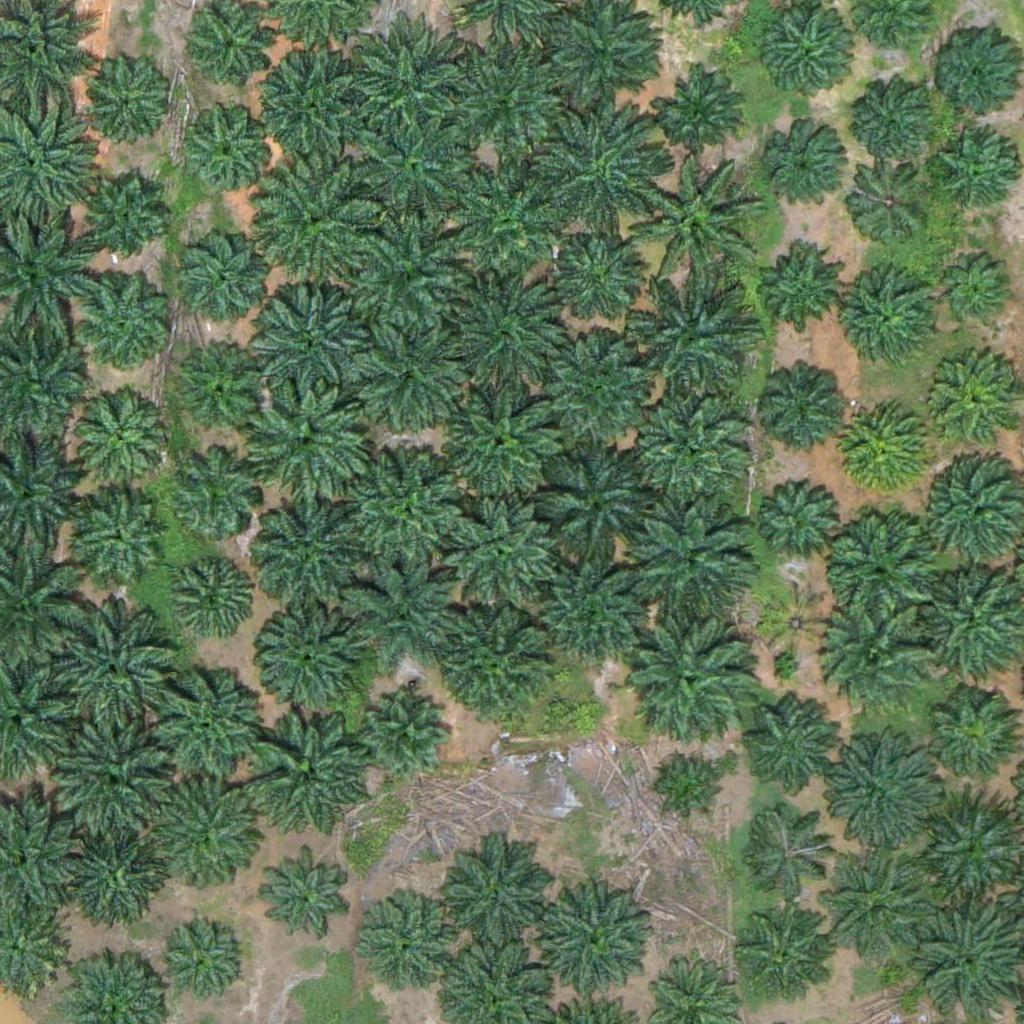Kelapa_Sawit: (442, 37, 567, 163), (447, 165, 572, 291), (447, 277, 572, 403), (441, 387, 566, 513), (435, 600, 560, 726), (345, 551, 470, 677), (341, 447, 466, 573), (348, 214, 473, 340), (353, 106, 478, 232), (347, 26, 472, 152), (251, 46, 376, 172), (250, 275, 375, 401), (246, 380, 371, 506), (244, 713, 369, 839), (151, 667, 276, 793), (60, 604, 185, 730), (45, 720, 170, 846), (532, 108, 657, 234), (532, 334, 657, 460), (529, 441, 654, 567), (530, 550, 655, 676), (624, 505, 749, 631), (632, 617, 757, 743), (632, 277, 757, 403), (629, 161, 754, 287), (811, 593, 936, 719), (812, 729, 937, 855), (431, 485, 556, 610), (345, 317, 470, 442), (262, 157, 387, 282), (627, 380, 752, 505), (156, 770, 269, 884), (249, 504, 362, 617), (254, 607, 367, 720), (443, 847, 556, 960), (824, 507, 936, 621), (74, 277, 174, 378), (69, 387, 169, 488), (66, 487, 166, 588), (358, 895, 458, 996), (545, 890, 645, 991), (831, 856, 931, 957), (76, 48, 176, 148), (56, 826, 156, 926), (737, 691, 837, 791), (842, 273, 942, 373), (729, 807, 829, 907), (734, 907, 834, 1007), (170, 446, 258, 534), (181, 227, 269, 315), (159, 919, 247, 1007), (557, 233, 645, 321), (760, 12, 848, 100), (765, 127, 853, 215), (753, 239, 841, 327), (757, 356, 845, 444), (843, 404, 931, 492), (929, 362, 1017, 450), (657, 65, 744, 154), (931, 28, 1018, 117), (850, 74, 937, 162), (361, 687, 448, 775), (173, 550, 260, 638), (181, 345, 268, 433), (188, 104, 275, 192), (187, 5, 274, 93), (81, 177, 168, 265), (259, 850, 346, 938), (756, 475, 843, 563), (845, 155, 932, 243), (936, 136, 1023, 224), (646, 752, 721, 828), (941, 252, 1016, 327), (763, 588, 825, 651)
